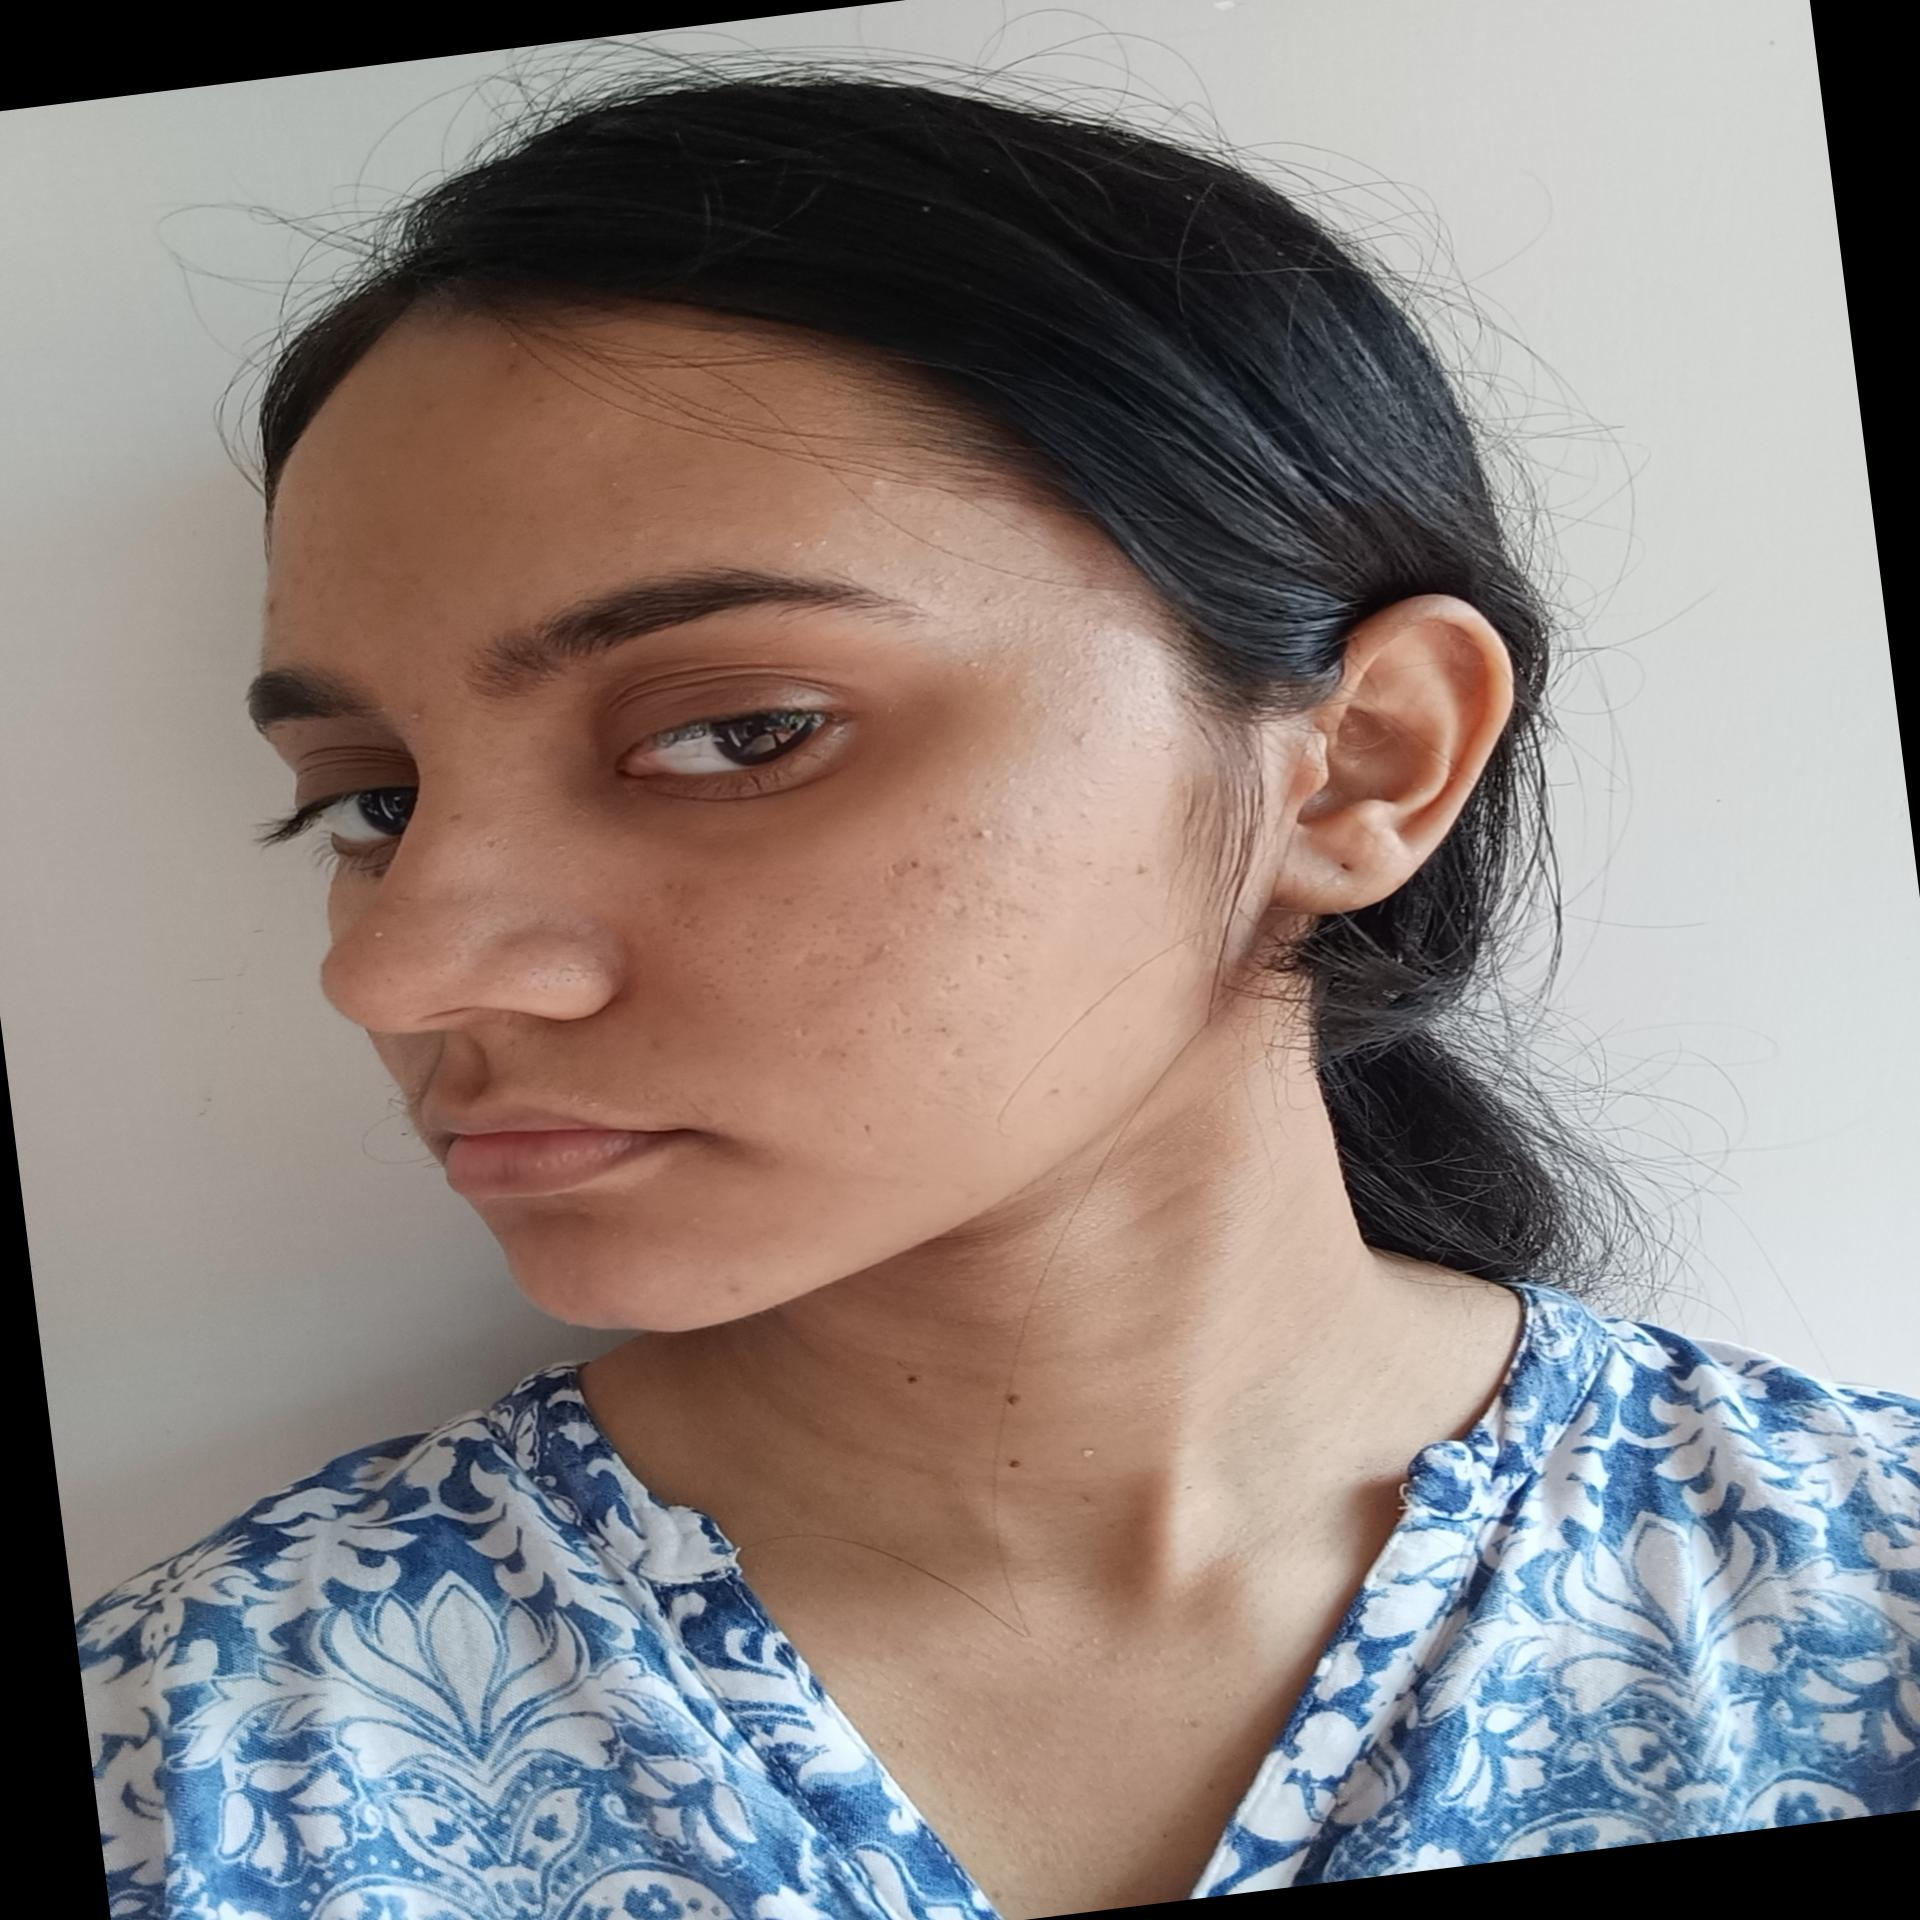Acne: (1060, 714, 1102, 761), (719, 1269, 758, 1305), (964, 821, 1007, 849), (858, 468, 893, 501), (404, 693, 434, 726), (260, 589, 290, 622), (499, 357, 531, 382)
Englarged Pores: (665, 833, 1046, 1062), (438, 898, 505, 958), (512, 956, 580, 986)
